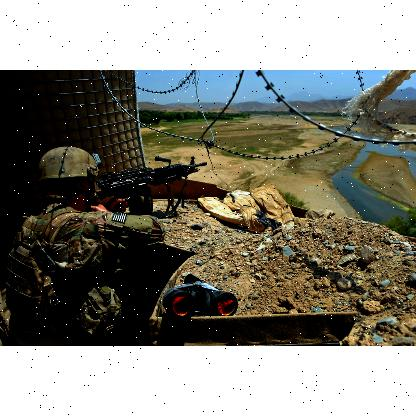gun: (96, 156, 204, 214)
